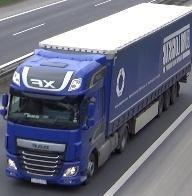Truck: (2, 8, 188, 196)
